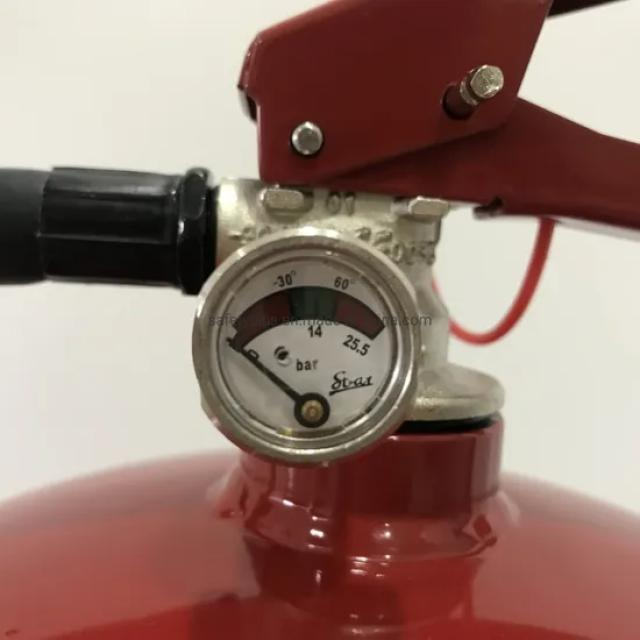pressure gauge: (194, 227, 419, 463)
